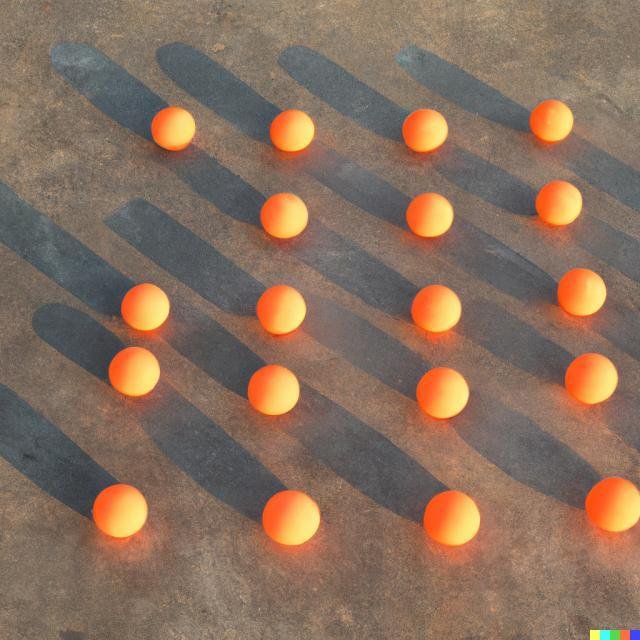orange: (262, 490, 321, 546), (424, 490, 480, 546), (585, 476, 640, 532), (94, 484, 148, 538), (566, 353, 620, 406), (416, 366, 469, 419), (247, 365, 300, 415), (108, 346, 160, 396), (256, 284, 306, 334), (120, 282, 170, 330), (412, 284, 462, 332), (558, 268, 608, 316), (262, 192, 310, 240), (406, 192, 454, 238), (404, 108, 448, 154), (537, 182, 583, 226), (270, 110, 314, 154), (530, 100, 574, 144), (153, 107, 195, 152)
